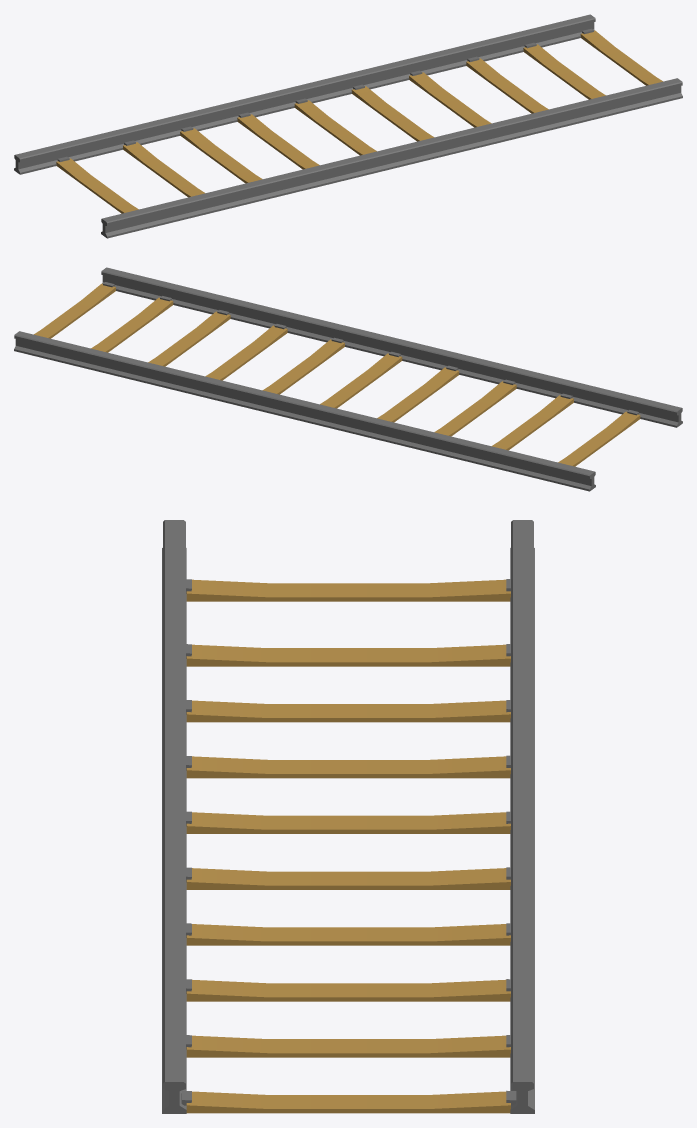
The model's file is SM_TrainTrackStraight.fbx.
3 views of the same model, one above another, from view 1: azimuth 30°, elevation 25°; view 2: azimuth 150°, elevation 25°; view 3: azimuth 270°, elevation 25° (orthographic). The views are drawn at different scales.
Visible parts, largest first — view 1: SM_TrainTrackStraight; view 2: SM_TrainTrackStraight; view 3: SM_TrainTrackStraight.
Part boxes in pixels (x1=…): SM_TrainTrackStraight: x1=14, y1=14, x2=682, y2=238; SM_TrainTrackStraight: x1=14, y1=267, x2=682, y2=491; SM_TrainTrackStraight: x1=162, y1=520, x2=534, y2=1113.
Bounding box in the file's own units: 1000 × 26.51 × 280.
